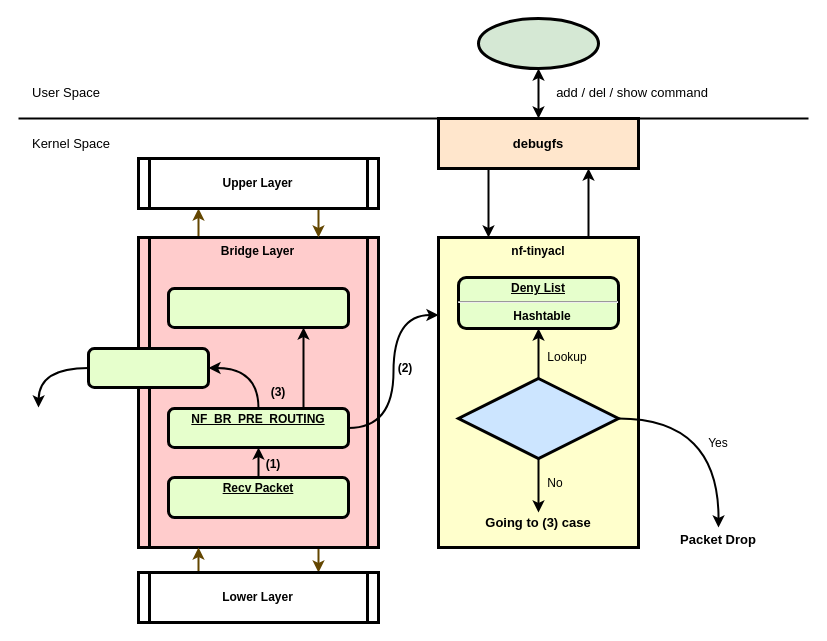
The diagram is 827 pixels wide and 641 high, and some of its shapes have lost their labels. Here are the shapes that lost their labels. From the top down, the centre of each, then its label:
At point (538, 43): "User".
At point (258, 307): "Going to upper layer".
At point (148, 367): "Forward".
At point (538, 418): "MAC in htable?".
